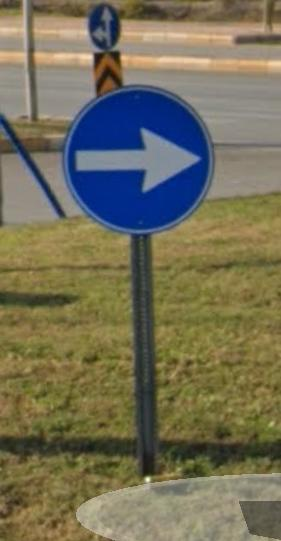turnright: (76, 86, 207, 225)
